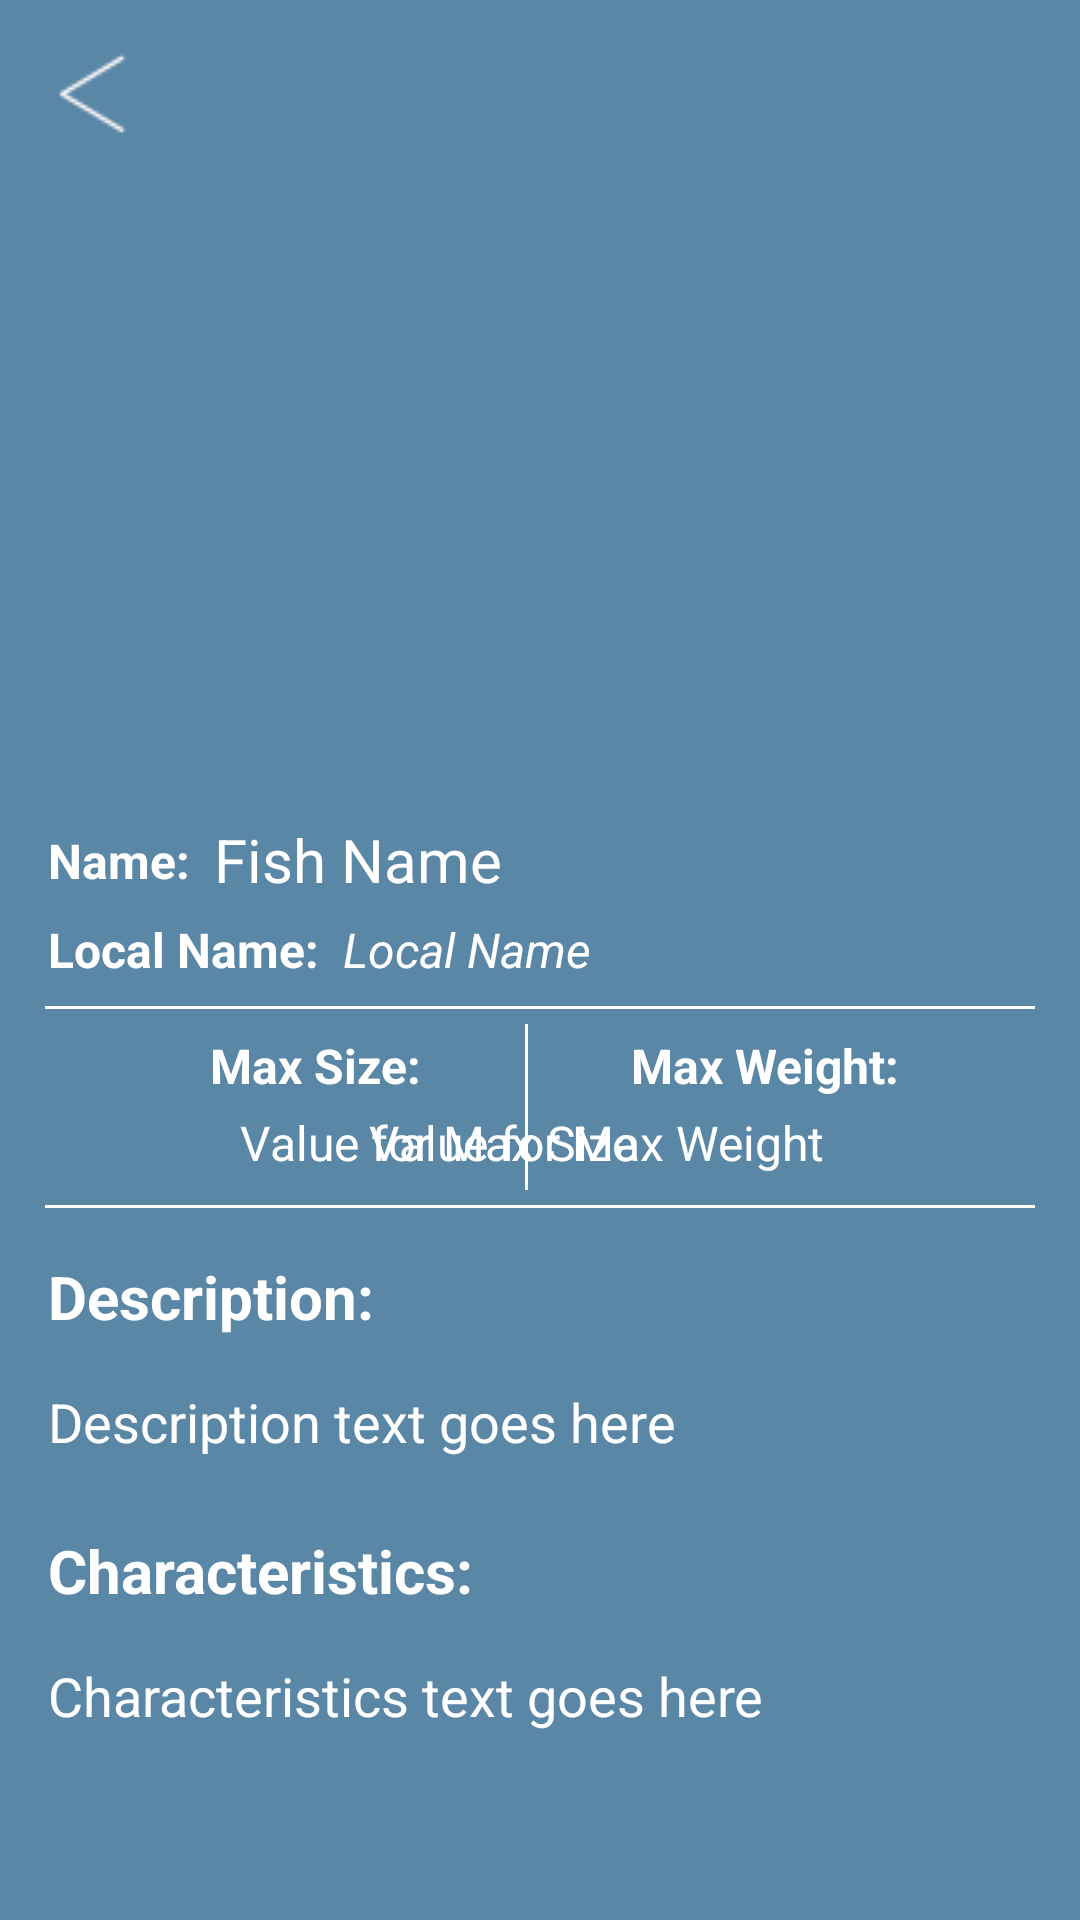

Icon click points for this 1080x1920 phone screenshot, format point (x, y):
Back: point (92, 93)
